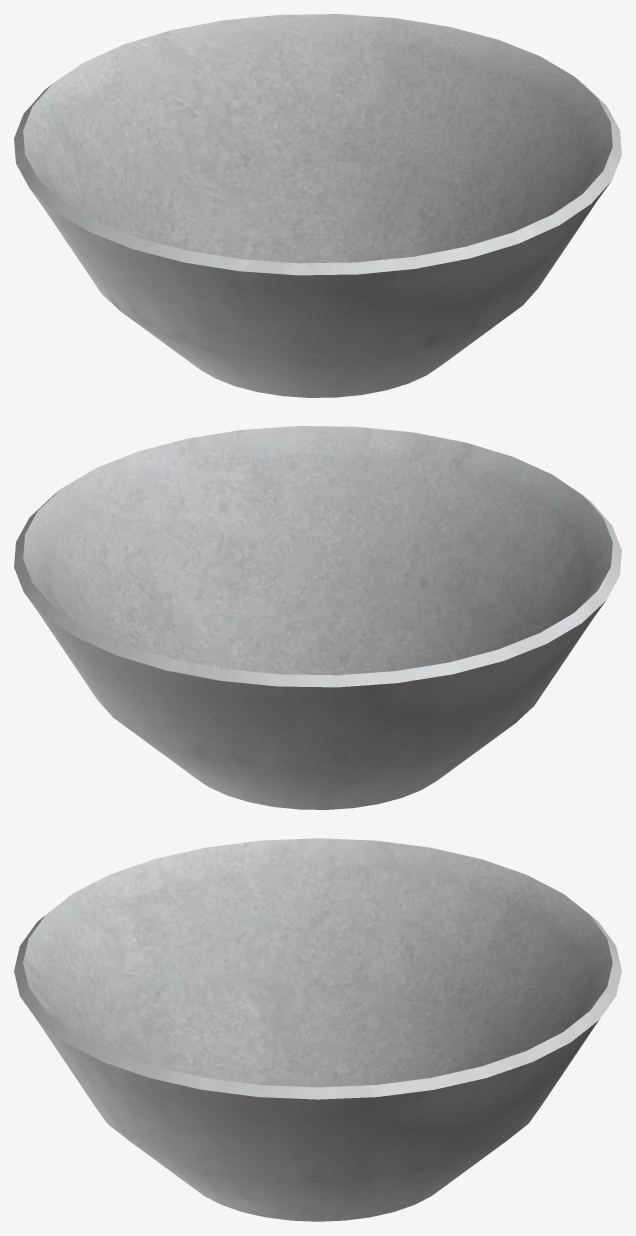
Rendered from khan_bowl.glb.
3 views of the same model, one above another, from view 1: azimuth 30°, elevation 25°; view 2: azimuth 150°, elevation 25°; view 3: azimuth 270°, elevation 25° (orthographic).
Parts seen in each view (by area): view 1: khan_bowl; view 2: khan_bowl; view 3: khan_bowl.
Part boxes in pixels (x1,y1,x2,y2): khan_bowl: (14,14,621,397); khan_bowl: (14,426,621,809); khan_bowl: (14,838,621,1221).
Size of the model in its own units: 0.2 by 0.073 by 0.2.
Materials: 1 (1 with a texture image).
